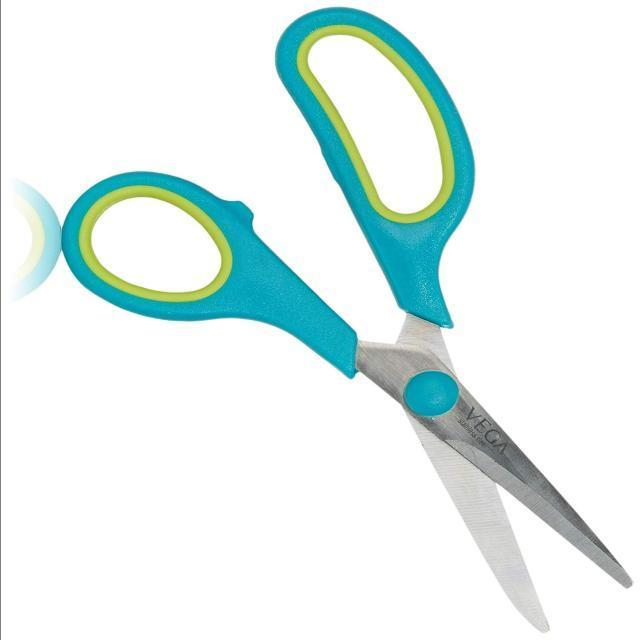scissor: (62, 6, 636, 636)
